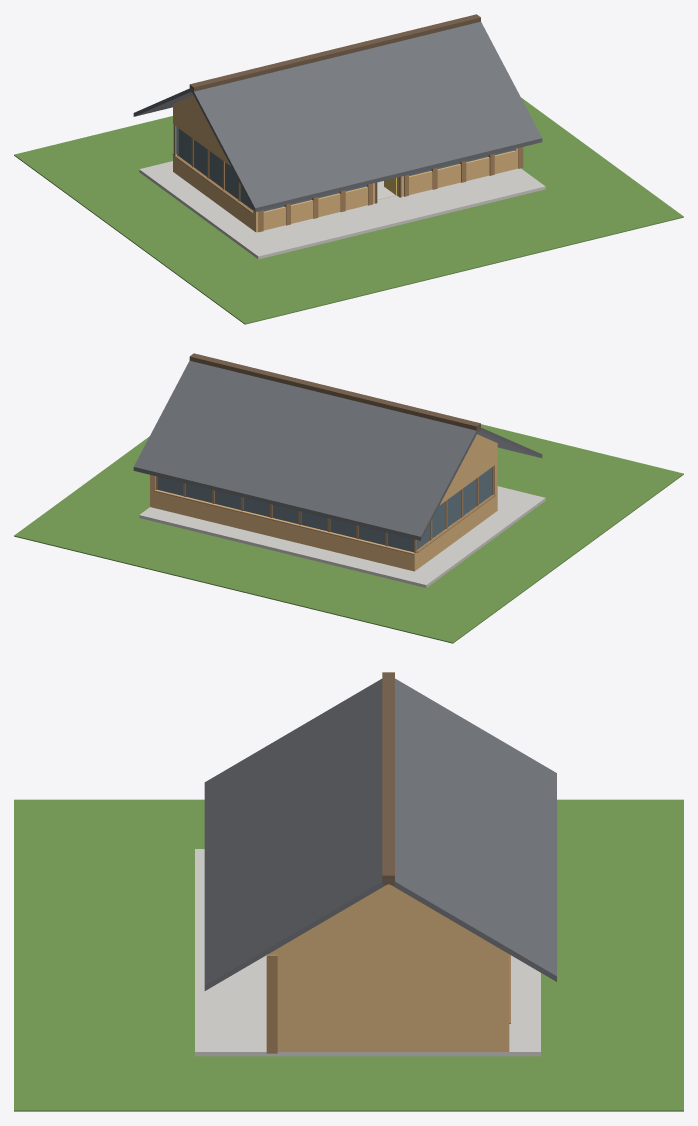
The model's file is direccion.glb.
The picture shows the model from 3 angles, top to bottom: view 1: azimuth 30°, elevation 25°; view 2: azimuth 150°, elevation 25°; view 3: azimuth 270°, elevation 25°; orthographic projection. The views are drawn at different scales.
Parts seen in each view (by area): view 1: Dirección; view 2: Dirección; view 3: Dirección.
Boxes of the visible parts, x1,y1,x2,y2 form: Dirección: (14, 14, 683, 324); Dirección: (14, 353, 683, 643); Dirección: (14, 672, 683, 1111).
Bounding box in the file's own units: 23.14 × 6.33 × 21.09.
